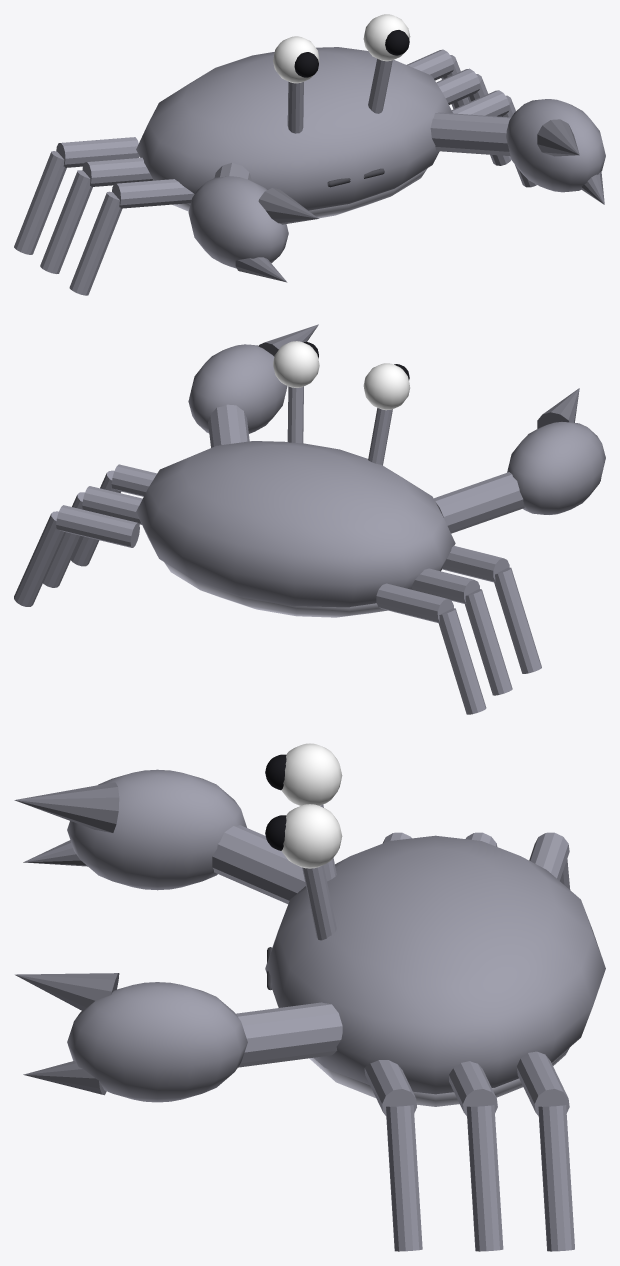
3 renders of one model, top to bottom at view 1: azimuth 30°, elevation 25°; view 2: azimuth 150°, elevation 25°; view 3: azimuth 270°, elevation 25°, orthographic. The views are drawn at different scales.
Parts seen in each view (by area): view 1: Crater Crab; view 2: Crater Crab; view 3: Crater Crab.
Part boxes in pixels (bbox=[...]): Crater Crab: bbox=[14, 14, 605, 295]; Crater Crab: bbox=[14, 324, 605, 714]; Crater Crab: bbox=[14, 743, 605, 1251].
Bounding box in the file's own units: 4.15 × 2.01 × 3.3.
Materials: 1 (1 with a texture image).
